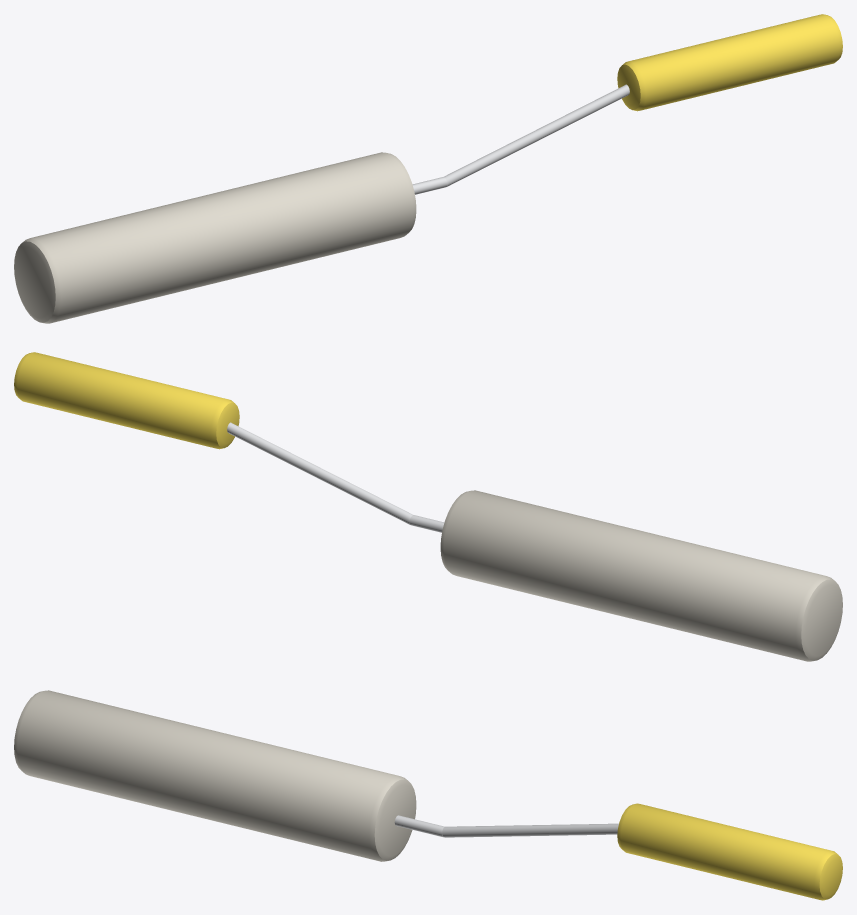
File: PIN-FER-001.glb
3 views of the same model, one above another, from view 1: azimuth 30°, elevation 25°; view 2: azimuth 150°, elevation 25°; view 3: azimuth 330°, elevation 25° (orthographic).
Parts seen in each view (by area): view 1: PIN-FER-001_la, PIN-FER-001_cabo, PIN-FER-001_haste; view 2: PIN-FER-001_la, PIN-FER-001_cabo, PIN-FER-001_haste; view 3: PIN-FER-001_la, PIN-FER-001_cabo, PIN-FER-001_haste, PIN-FER-001_eixo.
Boxes of the visible parts, x1,y1,x2,y2 form: PIN-FER-001_la: [14, 152, 416, 323]; PIN-FER-001_cabo: [617, 14, 842, 111]; PIN-FER-001_haste: [444, 84, 629, 186]; PIN-FER-001_la: [440, 490, 842, 661]; PIN-FER-001_cabo: [14, 352, 239, 449]; PIN-FER-001_haste: [227, 422, 412, 524]; PIN-FER-001_la: [14, 690, 416, 861]; PIN-FER-001_cabo: [617, 803, 842, 900]; PIN-FER-001_haste: [442, 823, 618, 837]; PIN-FER-001_eixo: [394, 815, 444, 837].
Bounding box in the file's own units: 0.505 × 0.068 × 0.048.
